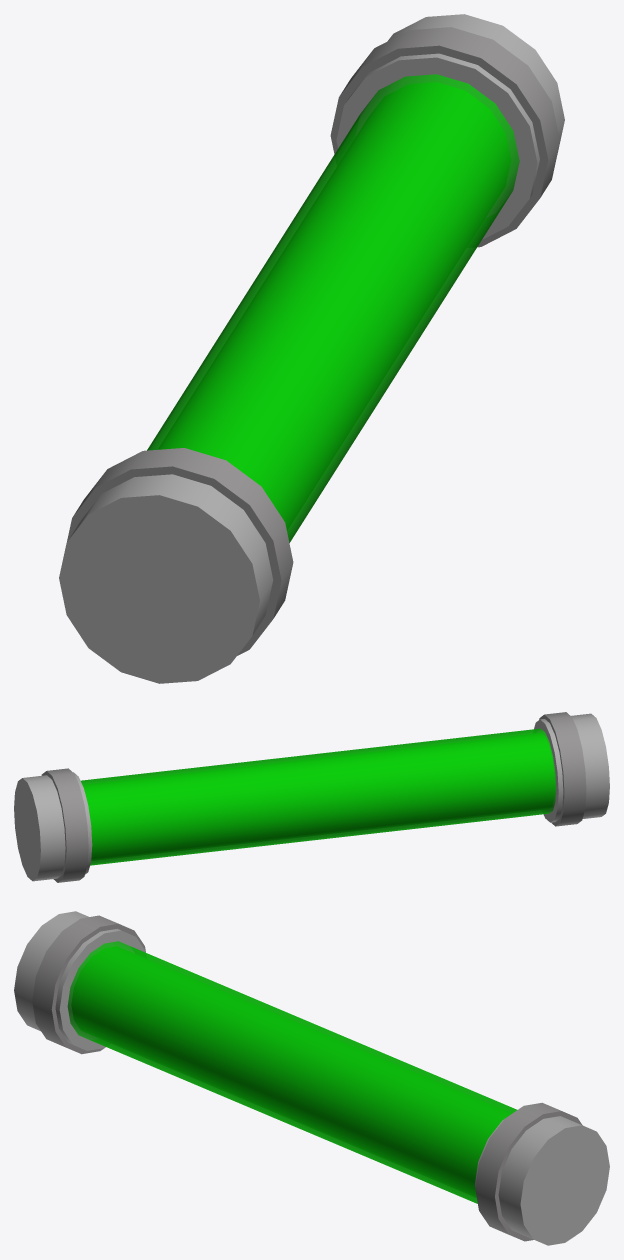
The model's file is CMU3DTreasureSampleTubeDrinksExtraCloudSynchronizer.glb.
3 renders of one model, top to bottom at view 1: azimuth 30°, elevation 25°; view 2: azimuth 150°, elevation 25°; view 3: azimuth 270°, elevation 25°, orthographic. The views are drawn at different scales.
Visible parts, largest first — view 1: translucent tube envelope, continuous sample inner body, closed grey end plug 0, closed grey end plug 1, plug raised collar 1, plug raised collar 0; view 2: translucent tube envelope, continuous sample inner body, closed grey end plug 1, closed grey end plug 0, plug raised collar 1, plug raised collar 0; view 3: translucent tube envelope, continuous sample inner body, closed grey end plug 1, closed grey end plug 0, plug raised collar 0, plug raised collar 1.
Part boxes in pixels (x1=…): translucent tube envelope: x1=147, y1=74, x2=519, y2=542; continuous sample inner body: x1=159, y1=82, x2=510, y2=529; closed grey end plug 0: x1=59, y1=474, x2=273, y2=683; closed grey end plug 1: x1=336, y1=14, x2=564, y2=239; plug raised collar 1: x1=330, y1=27, x2=560, y2=247; plug raised collar 0: x1=67, y1=448, x2=293, y2=655; translucent tube envelope: x1=81, y1=728, x2=556, y2=865; continuous sample inner body: x1=83, y1=733, x2=554, y2=860; closed grey end plug 1: x1=14, y1=772, x2=92, y2=881; closed grey end plug 0: x1=534, y1=713, x2=609, y2=822; plug raised collar 1: x1=41, y1=768, x2=88, y2=882; plug raised collar 0: x1=539, y1=712, x2=586, y2=826; translucent tube envelope: x1=67, y1=941, x2=517, y2=1203; continuous sample inner body: x1=72, y1=947, x2=511, y2=1196; closed grey end plug 1: x1=475, y1=1116, x2=609, y2=1245; closed grey end plug 0: x1=14, y1=911, x2=145, y2=1050; plug raised collar 0: x1=32, y1=915, x2=145, y2=1054; plug raised collar 1: x1=475, y1=1102, x2=582, y2=1241.
Size of the model in its own units: 0.452 by 0.104 by 0.452.
